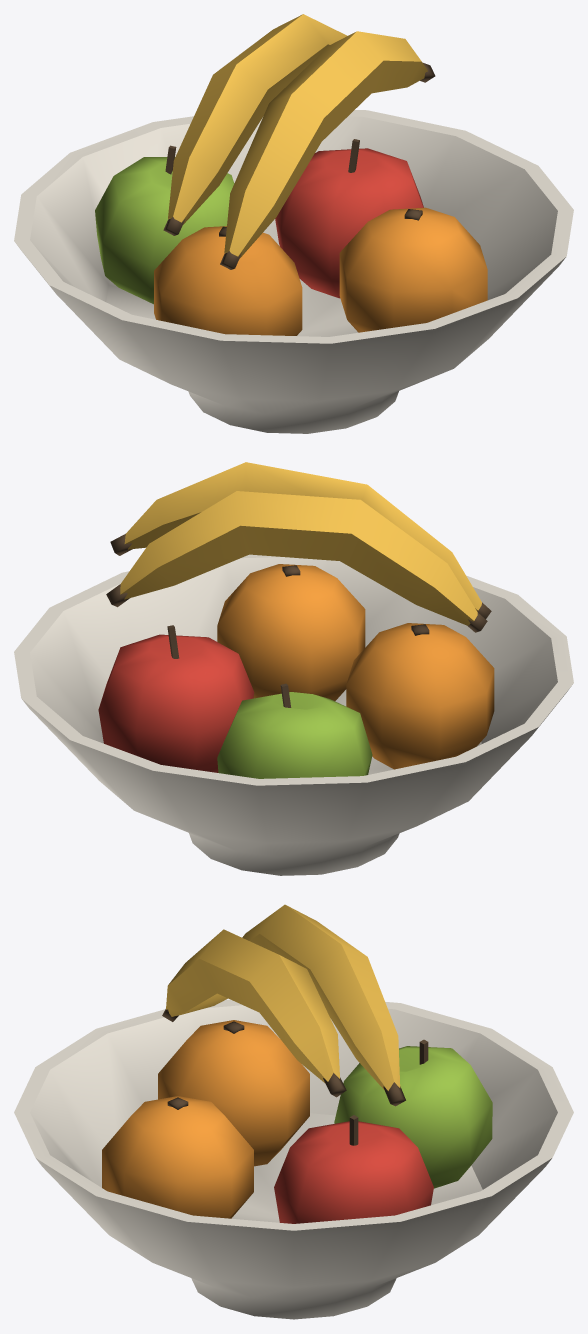
File: fruitBowl.glb
The picture shows the model from 3 angles, top to bottom: view 1: azimuth 30°, elevation 25°; view 2: azimuth 150°, elevation 25°; view 3: azimuth 270°, elevation 25°; orthographic projection.
Parts seen in each view (by area): view 1: fruitBowl; view 2: fruitBowl; view 3: fruitBowl.
Boxes of the visible parts, x1,y1,x2,y2 form: fruitBowl: (14, 14, 573, 433); fruitBowl: (14, 462, 573, 875); fruitBowl: (14, 904, 573, 1319).
Size of the model in its own units: 0.28 by 0.1919 by 0.28.
